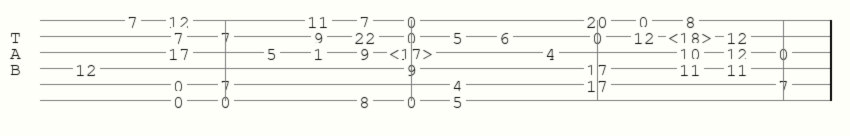0: (173, 77, 188, 92), (173, 93, 188, 108), (220, 93, 235, 108), (406, 29, 421, 44), (406, 13, 421, 28), (406, 93, 421, 108), (592, 29, 607, 44), (638, 13, 653, 28), (778, 45, 793, 60)
1: (313, 45, 328, 60)
10: (679, 45, 705, 60)
11: (307, 13, 333, 28), (679, 61, 705, 76), (726, 61, 752, 76)
12: (75, 61, 101, 76), (168, 13, 194, 28), (633, 29, 659, 44), (726, 45, 752, 60), (726, 29, 752, 44)
17: (168, 45, 194, 60), (586, 61, 612, 76), (586, 77, 612, 92)
20: (586, 13, 612, 28)
22: (354, 29, 380, 44)
4: (452, 77, 467, 92), (545, 45, 560, 60)
5: (266, 45, 281, 60), (452, 93, 467, 108), (452, 29, 467, 44)
6: (499, 29, 514, 44)
7: (127, 13, 142, 28), (173, 29, 188, 44), (220, 77, 235, 92), (220, 29, 235, 44), (359, 13, 374, 28), (778, 77, 793, 92)
8: (359, 93, 374, 108), (685, 13, 700, 28)
9: (313, 29, 328, 44), (359, 45, 374, 60), (406, 61, 421, 76)
harmonic: (389, 45, 437, 60), (668, 29, 716, 44)
